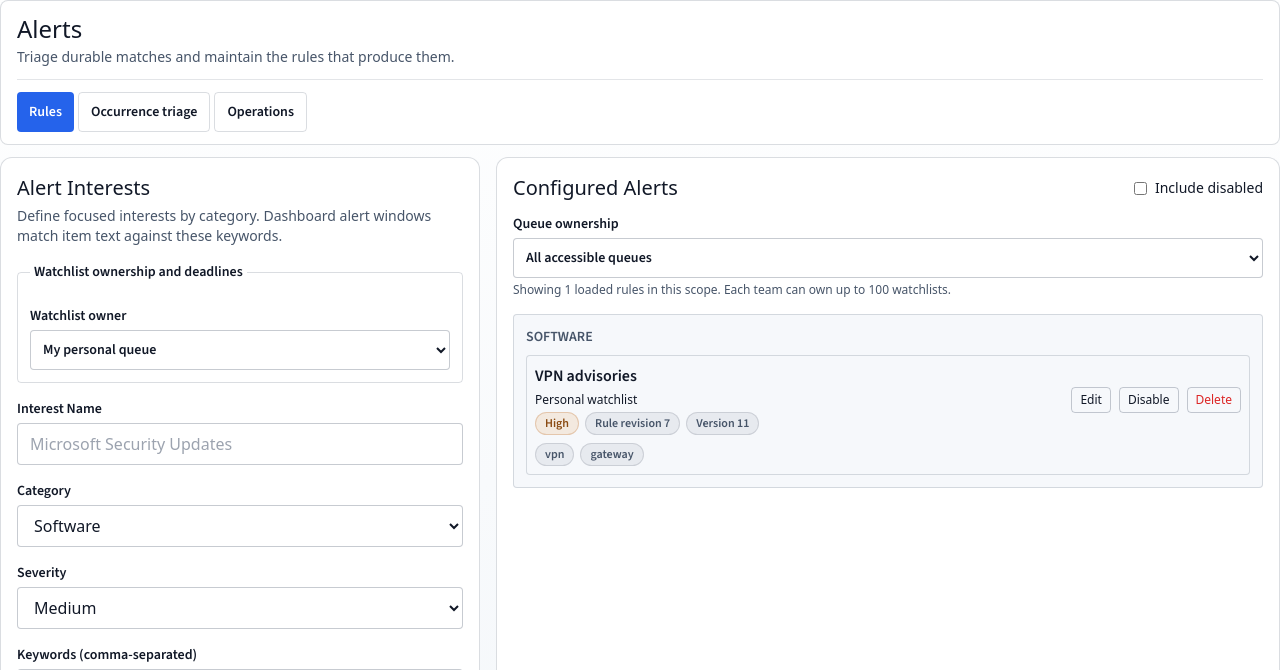
AlertsPage DOM workflows › keeps the delete target open and renders destructive mutation failures
What coordinates should you click on to do the following:
click the button "Delete"
I would click on:
 (1214, 400)
Its box is [1186,386,1241,412].
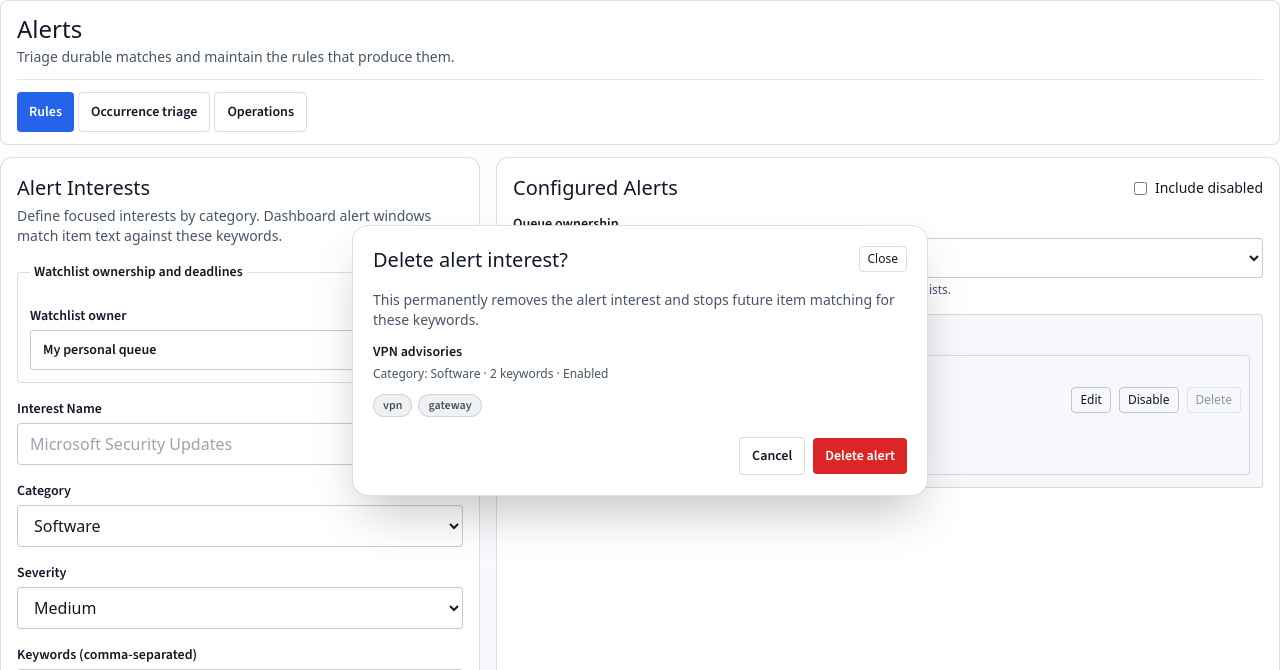
What coordinates should you click on to do the following:
click the button "Delete alert"
I would click on:
 (860, 456)
Its box is [813,438,907,474].
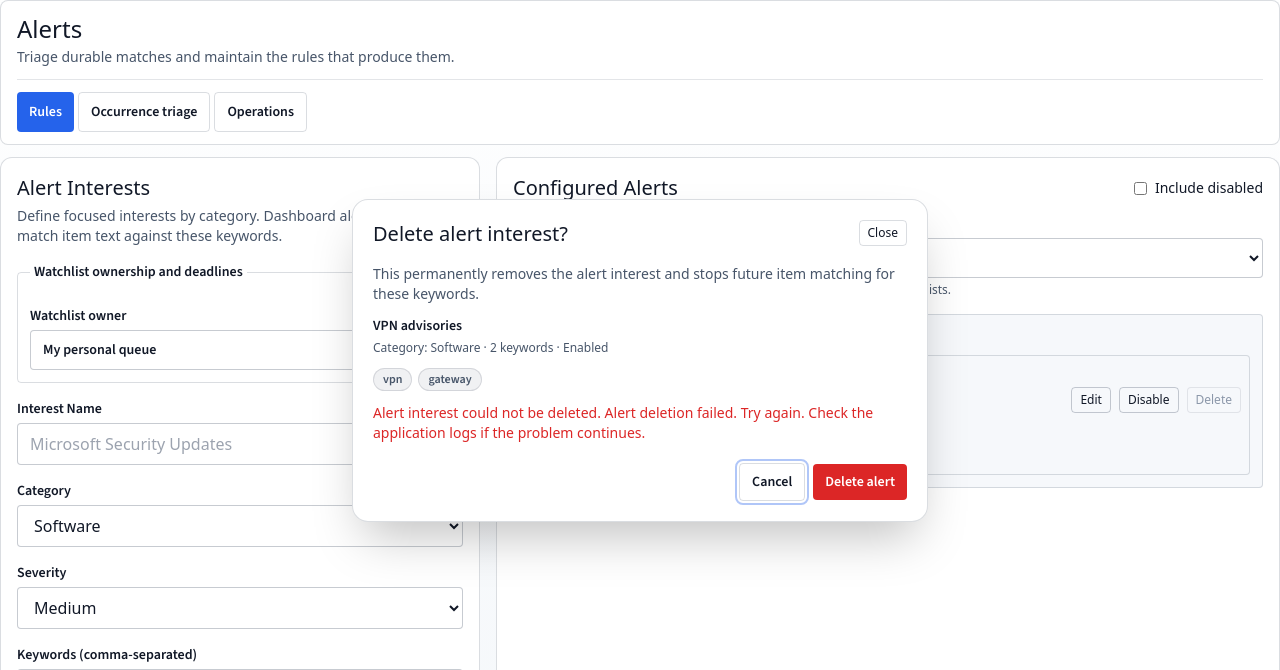
Expected: the text "Delete alert interest?" is shown, [373,220,568,246]
Expected: the message shows "Alert deletion failed.", [373,402,873,442]
